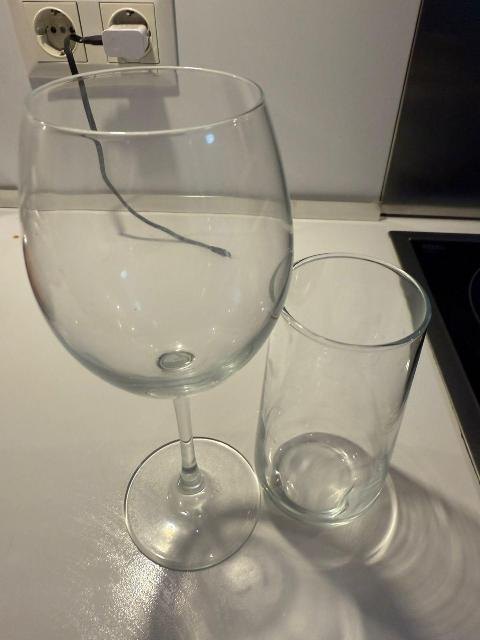Cam: (17, 67, 291, 573), (250, 253, 434, 528)
